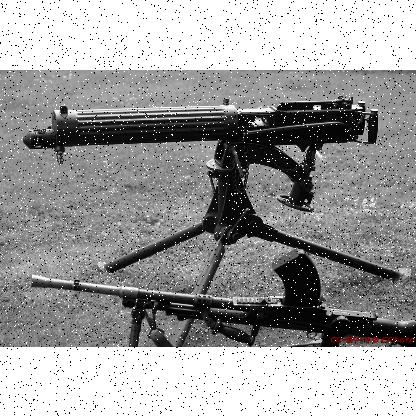gun: (30, 247, 416, 346)
